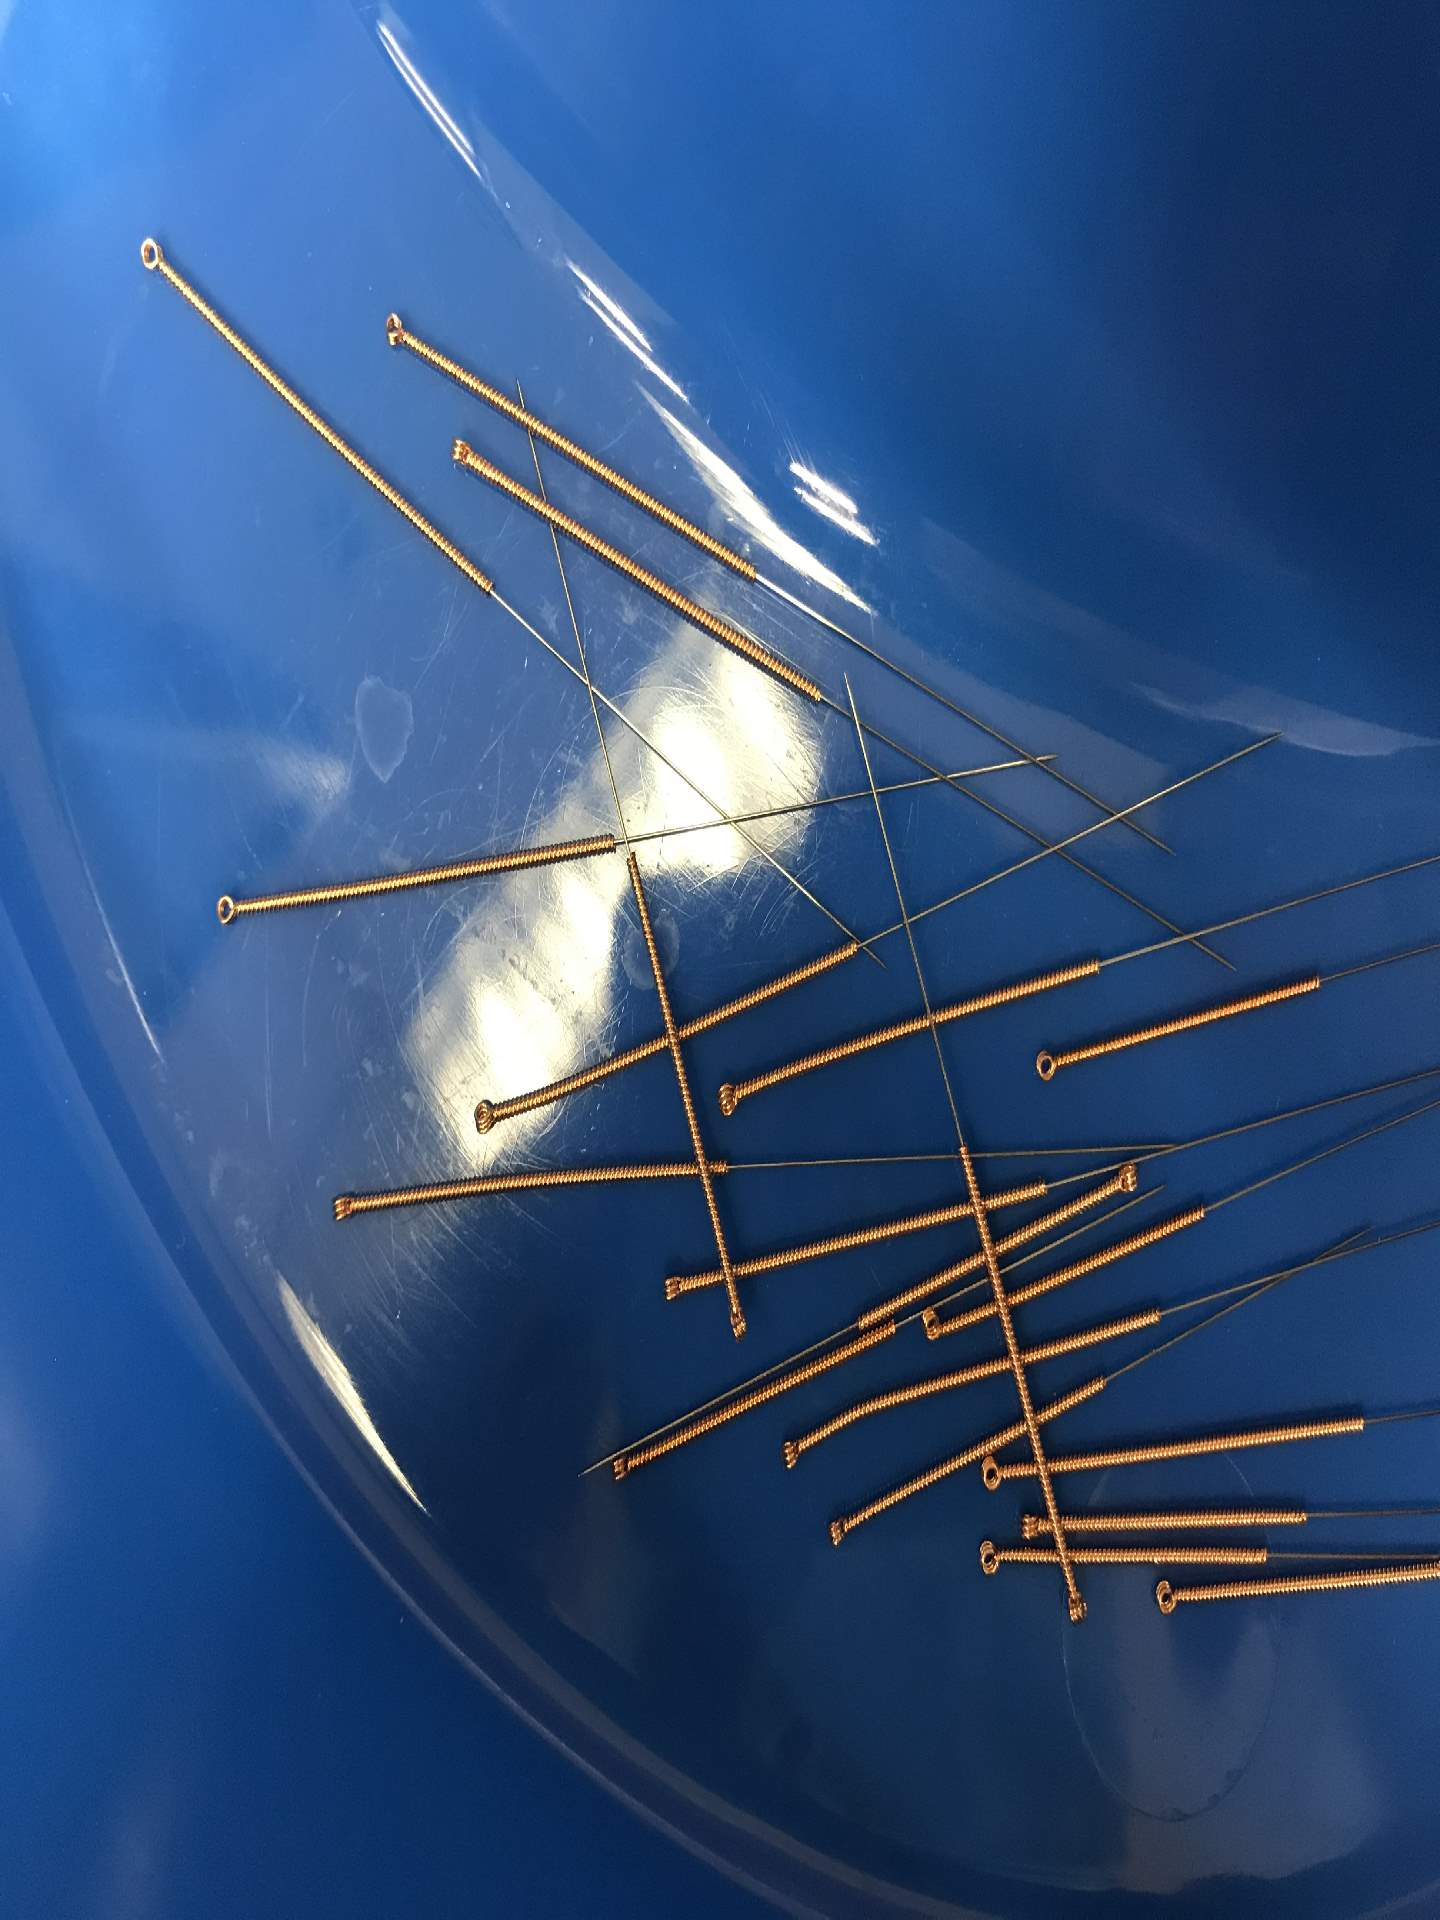needle: (1051, 1572, 1100, 1637), (203, 881, 253, 940), (706, 1072, 759, 1126), (129, 225, 175, 286), (771, 1423, 817, 1482), (322, 1181, 372, 1234), (967, 1533, 1019, 1583), (815, 1501, 864, 1556), (371, 304, 421, 355), (650, 1262, 700, 1312), (1023, 1039, 1071, 1090), (970, 1450, 1016, 1501), (1104, 1155, 1150, 1208), (601, 1439, 649, 1488), (461, 1090, 511, 1137), (1145, 1571, 1192, 1621), (715, 1293, 756, 1349), (439, 428, 484, 478), (1007, 1501, 1056, 1545), (912, 1305, 954, 1349)
